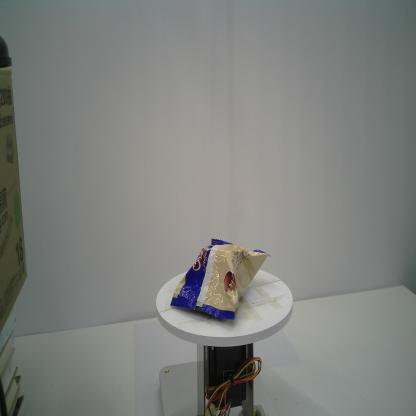Dessert: (170, 237, 272, 321)
